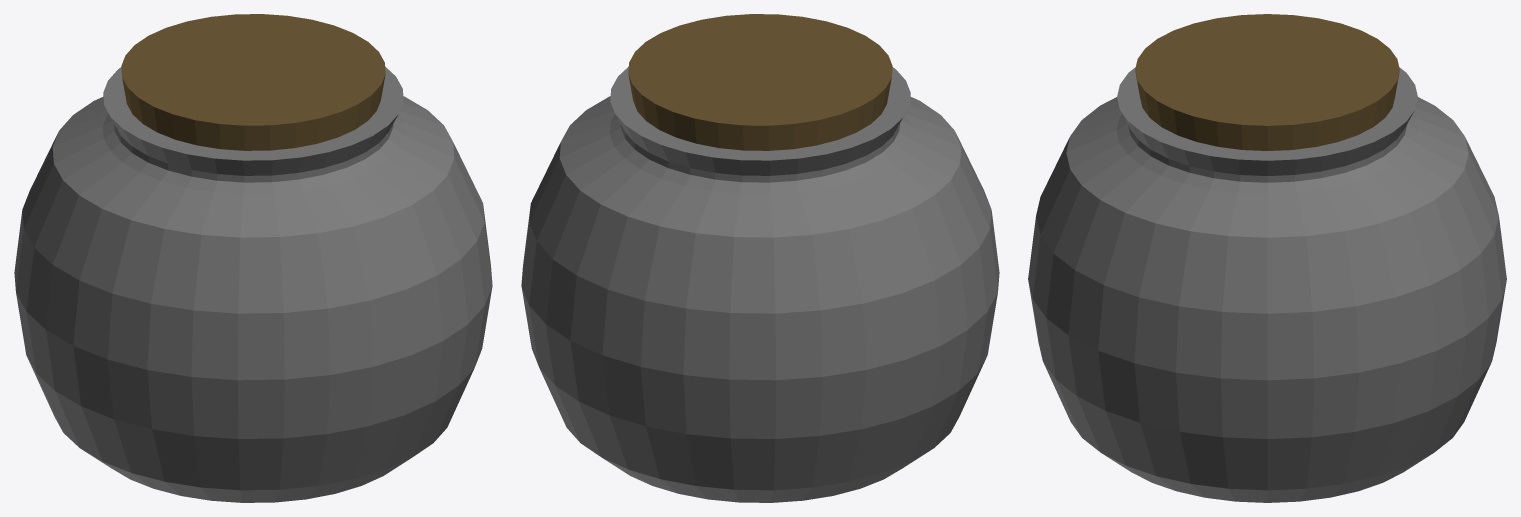
The model's file is Glass 3.fbx.
3 renders of one model, left to right at view 1: azimuth 30°, elevation 25°; view 2: azimuth 150°, elevation 25°; view 3: azimuth 270°, elevation 25°, orthographic.
Visible parts, largest first — view 1: Cylinder, Cylinder.002; view 2: Cylinder, Cylinder.002; view 3: Cylinder, Cylinder.002.
Boxes of the visible parts, x1,y1,x2,y2 form: Cylinder: (14, 67, 492, 502); Cylinder.002: (121, 14, 385, 150); Cylinder: (521, 67, 999, 502); Cylinder.002: (628, 14, 892, 150); Cylinder: (1028, 67, 1506, 502); Cylinder.002: (1135, 14, 1399, 150).
Size of the model in its own units: 74.68 by 62.58 by 74.68.
